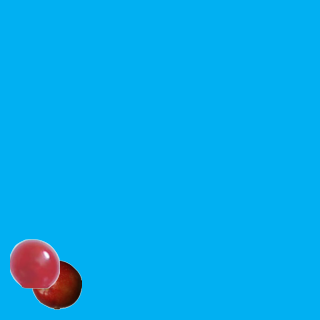Apple Braeburn: (31, 259, 81, 309)
Redcurrant: (9, 238, 59, 288)
